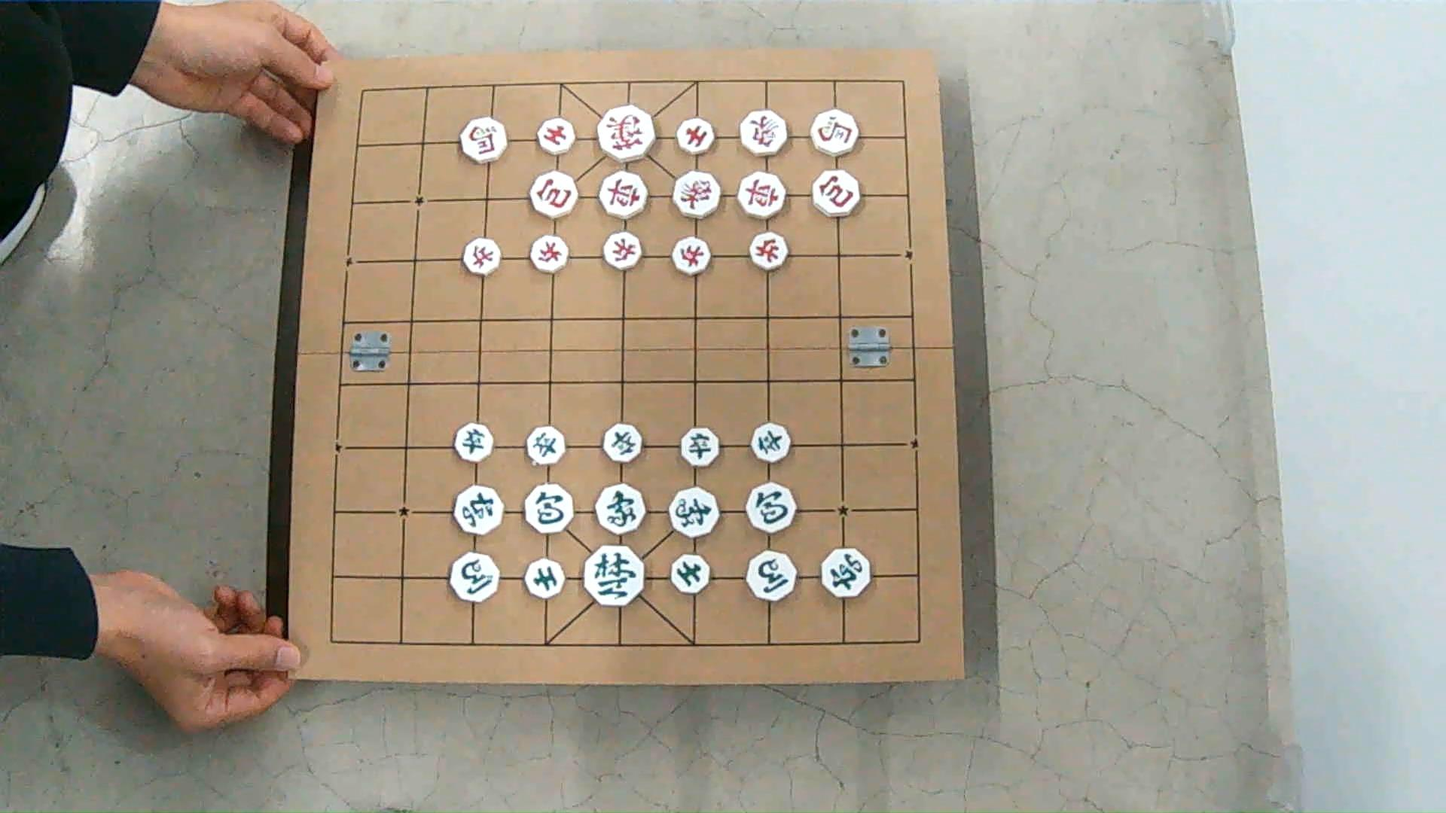cha_green: (821, 549, 871, 598), (453, 486, 502, 534)
cha_red: (599, 172, 646, 219), (738, 172, 786, 218)
jol_green: (752, 423, 790, 463), (681, 428, 719, 467), (455, 424, 493, 462), (603, 424, 641, 462), (527, 427, 564, 464)
jol_red: (462, 238, 500, 276), (750, 232, 788, 270), (530, 235, 568, 272), (604, 232, 641, 269), (673, 237, 709, 275)
ma_green: (746, 552, 795, 601), (450, 553, 498, 602)
ma_red: (810, 109, 858, 155), (461, 117, 505, 163)
po_green: (524, 483, 573, 533), (747, 483, 796, 533)
po_red: (812, 170, 859, 217), (530, 172, 577, 218)
sa_green: (670, 554, 709, 594), (524, 559, 563, 598)
sa_red: (537, 118, 575, 154), (677, 118, 713, 155)
sang_green: (596, 483, 645, 534), (669, 487, 718, 537)
sang_red: (673, 171, 719, 218), (740, 110, 786, 156)
wang_green: (584, 545, 644, 606)
wang_red: (597, 105, 654, 160)
